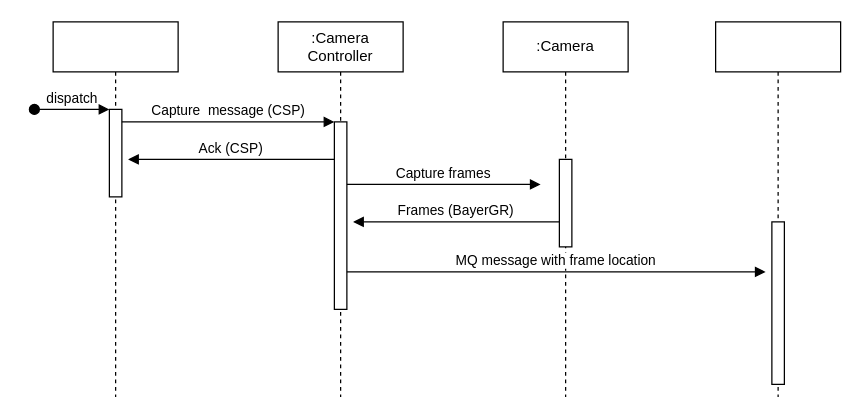
Image size: 863x419. Some labels were removed from this diagram. Here are the shapes that lost their labels. From the top down, the centre of each, then its label:
At [115,209]: ":Scheduler".
At [777,209]: ":Processing Pipeline".
